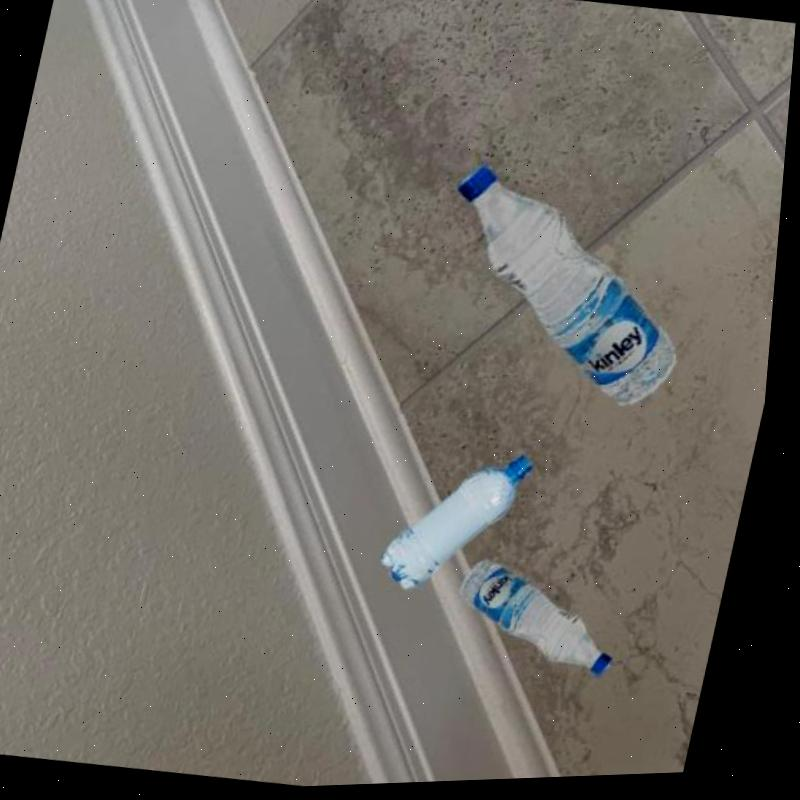botella: (418, 160, 719, 425), (380, 439, 549, 612), (452, 556, 642, 689)
